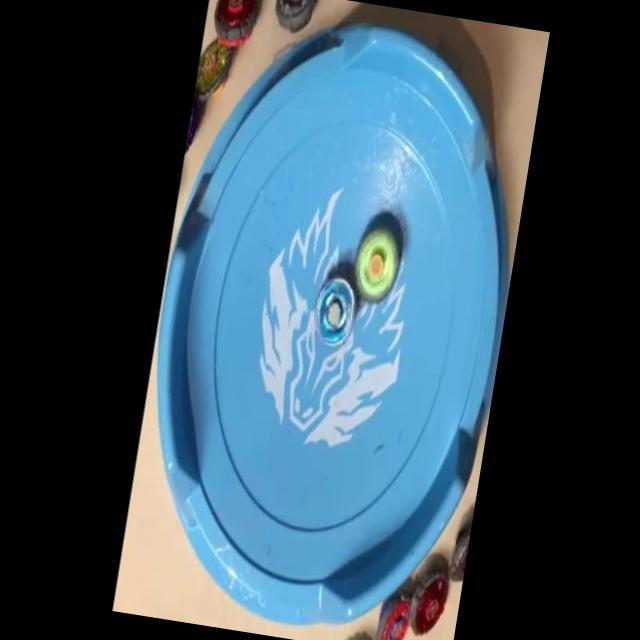Beyblade: (350, 227, 404, 306), (310, 274, 360, 348), (406, 568, 451, 639), (210, 0, 265, 50), (194, 37, 234, 104), (372, 589, 415, 640)
